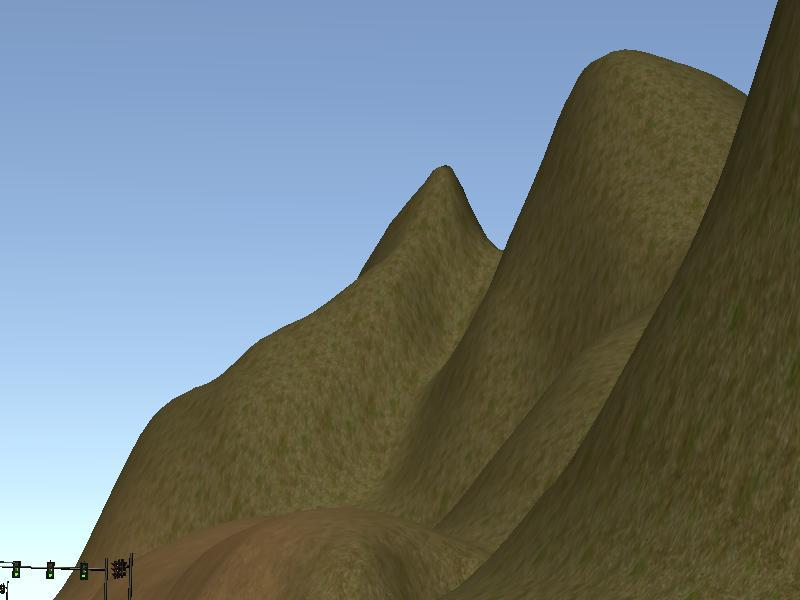Green: (44, 559, 55, 581), (78, 560, 89, 582), (11, 560, 21, 579)
